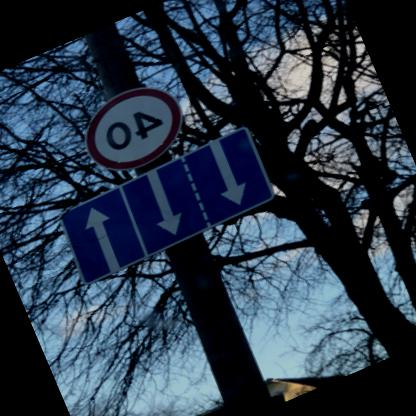speedlimit: (73, 71, 198, 182)
